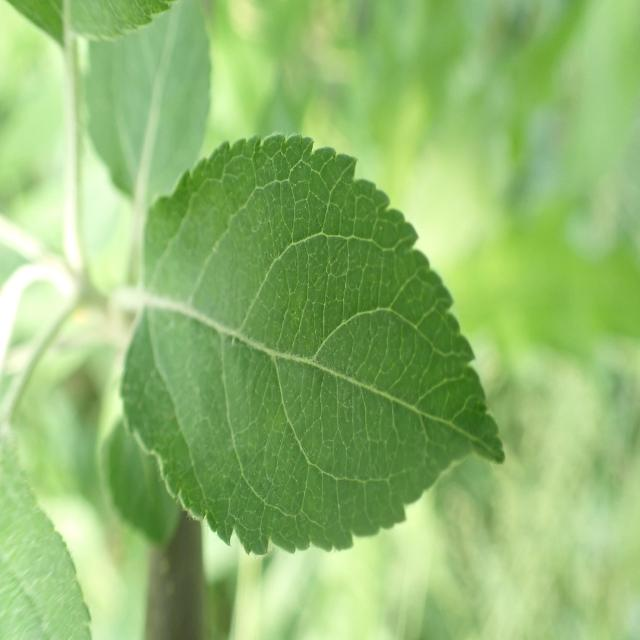healthy: (120, 130, 504, 558), (0, 426, 91, 640)
